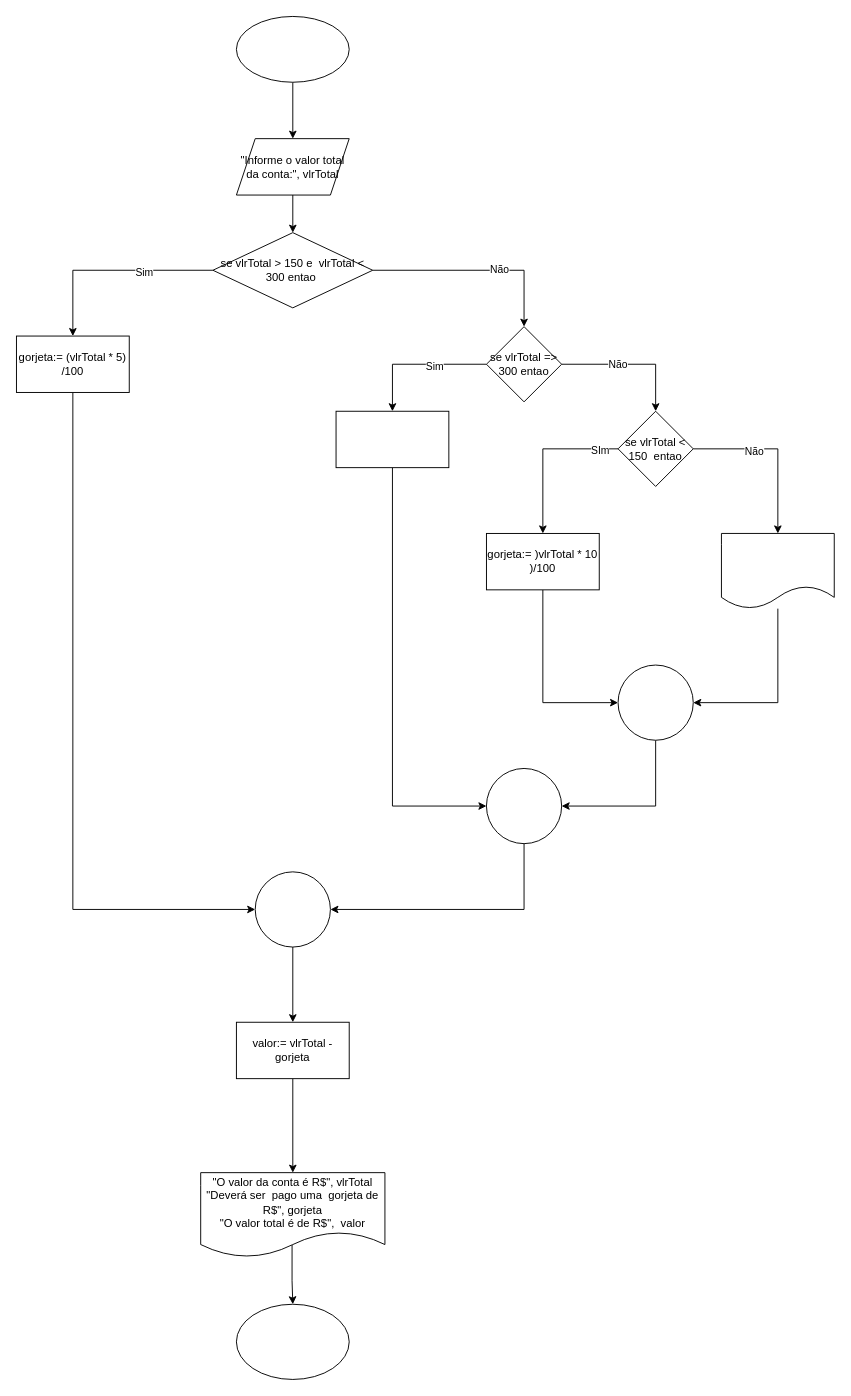
Image size: 851x1396. Some labels were removed from this diagram. Each missing label, with the box of its shape:
"Nenhuma gorjeta sera cobrada": (721, 533, 834, 609)
Fim: (235, 1303, 349, 1379)
gorjeta:= 0: (335, 410, 449, 468)
Inicio: (235, 16, 349, 82)
